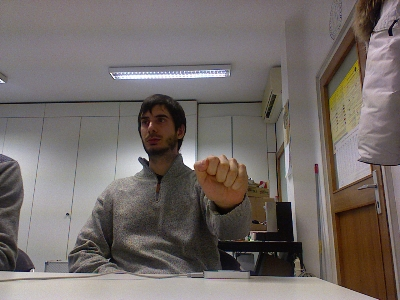石头: (192, 153, 248, 206)
